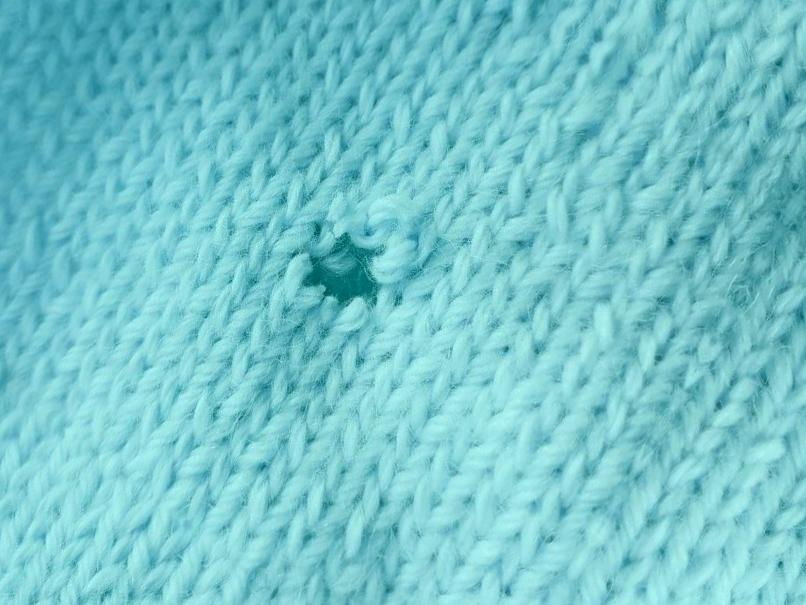hole: (279, 207, 403, 328)
